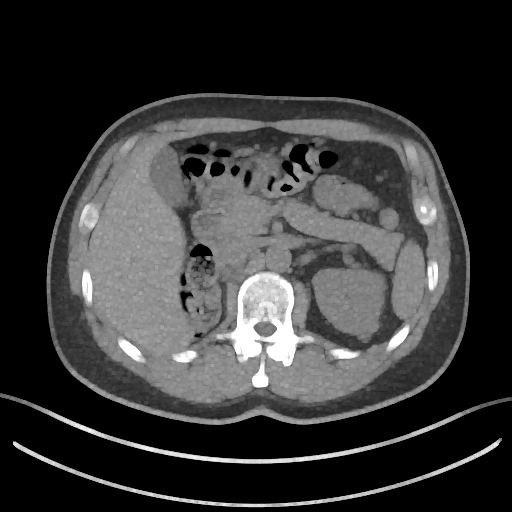Lesion: (356, 328, 373, 343)
